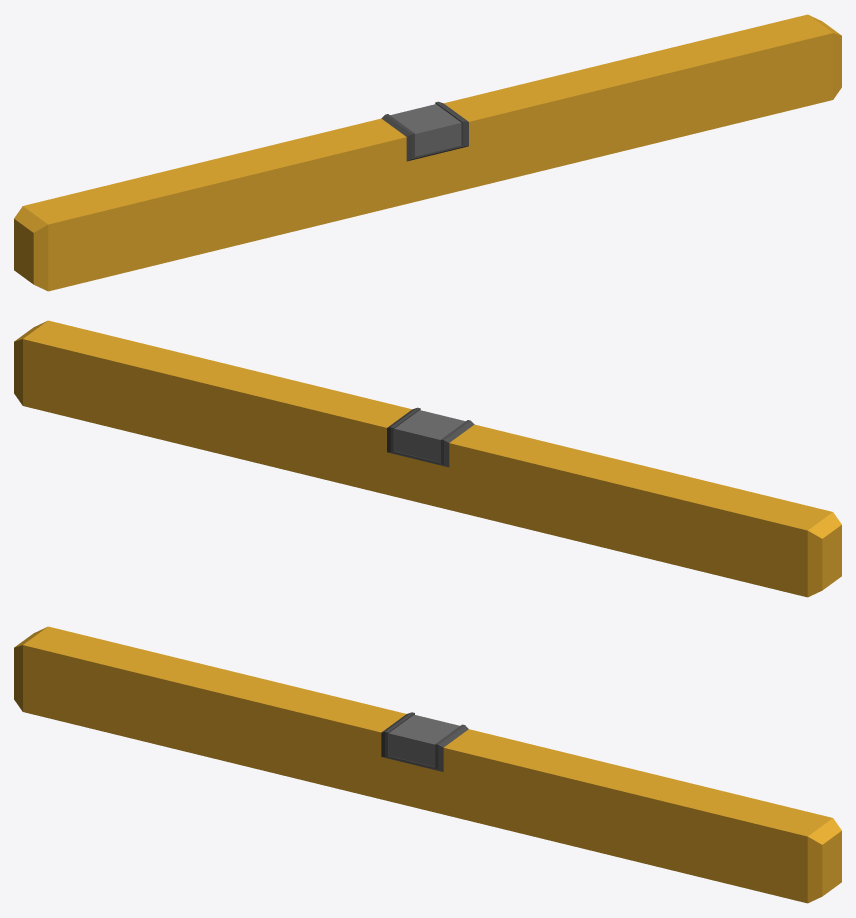
3 renders of one model, top to bottom at view 1: azimuth 30°, elevation 25°; view 2: azimuth 150°, elevation 25°; view 3: azimuth 330°, elevation 25°, orthographic.
Parts seen in each view (by area): view 1: F-11; view 2: F-11; view 3: F-11.
Part boxes in pixels (bbox=[...]): F-11: bbox=[14, 14, 841, 291]; F-11: bbox=[14, 320, 841, 597]; F-11: bbox=[14, 626, 841, 903].
Bounding box in the file's own units: 258 × 21.11 × 14.88.
